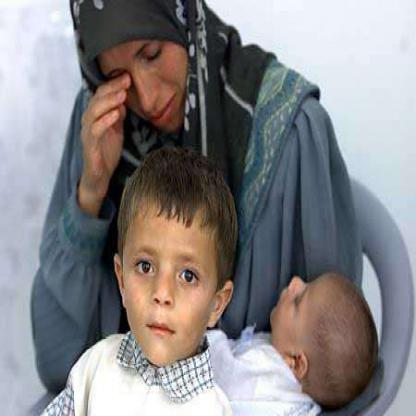face: (124, 156, 221, 370), (101, 1, 190, 155)
